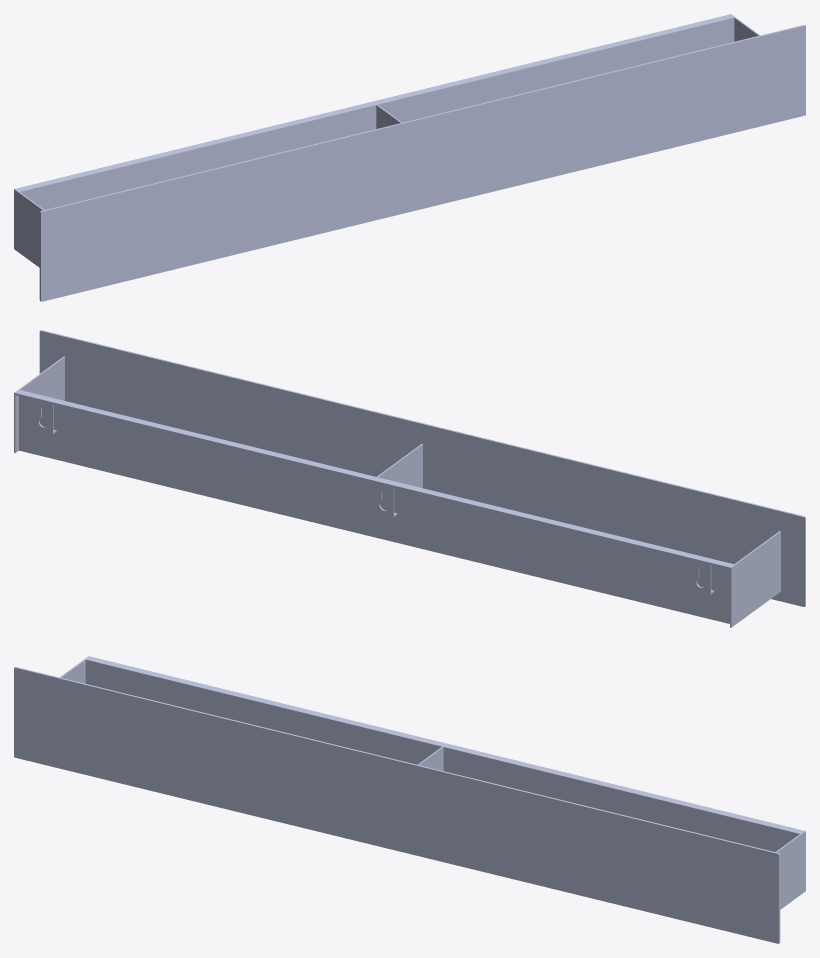
The model's file is skyline-mono.a43297525d.glb.
3 renders of one model, top to bottom at view 1: azimuth 30°, elevation 25°; view 2: azimuth 150°, elevation 25°; view 3: azimuth 330°, elevation 25°, orthographic.
Visible parts, largest first — view 1: NAUO1; view 2: NAUO1; view 3: NAUO1.
Boxes of the visible parts, x1,y1,x2,y2 form: NAUO1: (14, 14, 805, 301); NAUO1: (14, 330, 805, 627); NAUO1: (14, 656, 805, 943).
Bounding box in the file's own units: 0.8 × 0.0899 × 0.092.
